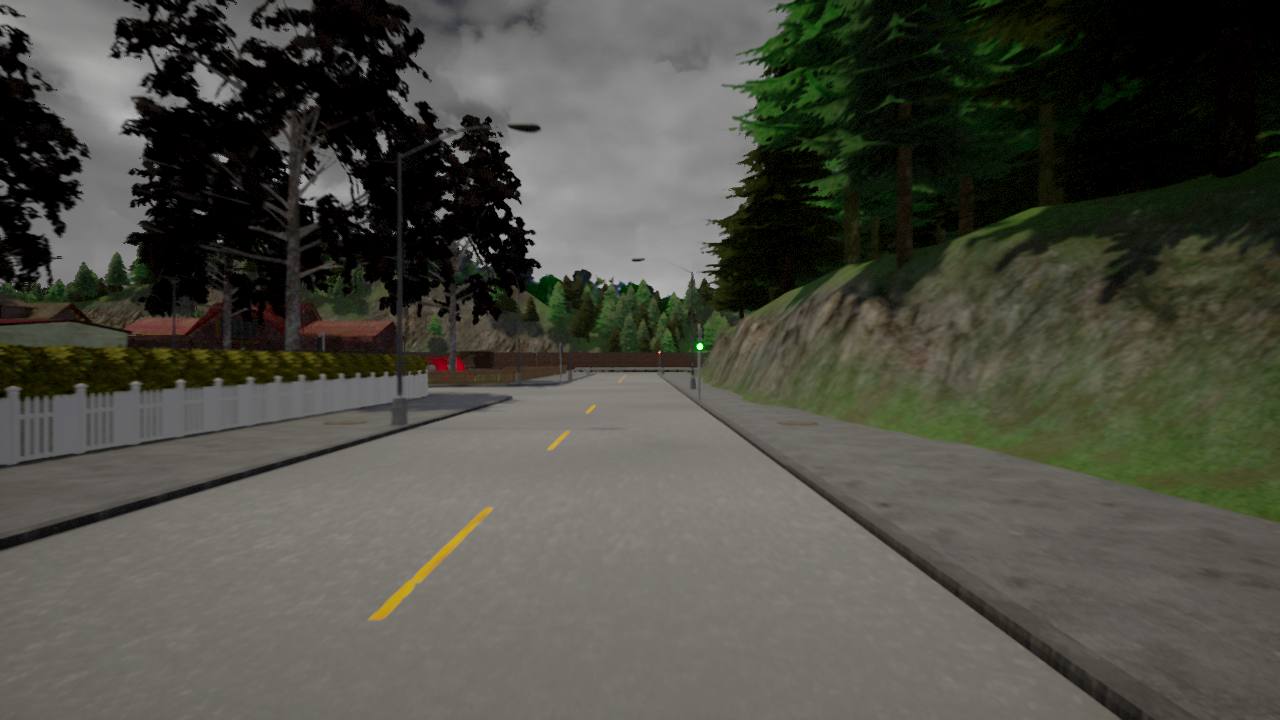green: (694, 329, 705, 351)
